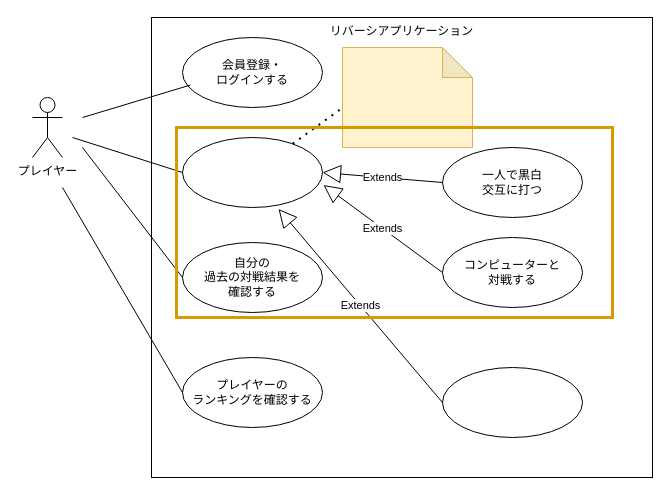
Some shapes in this 670 by 495 pixel diagram are drawn without their labels. Here are the shapes that lost their labels. From the top down, the box of each, then its label:
(342, 46, 472, 148): ・対戦を開始する ・盤面を見る ・石を打つ ・勝敗を確認する
(182, 136, 322, 208): 対戦する
(442, 366, 582, 438): 他のプレイヤーと 対戦する
